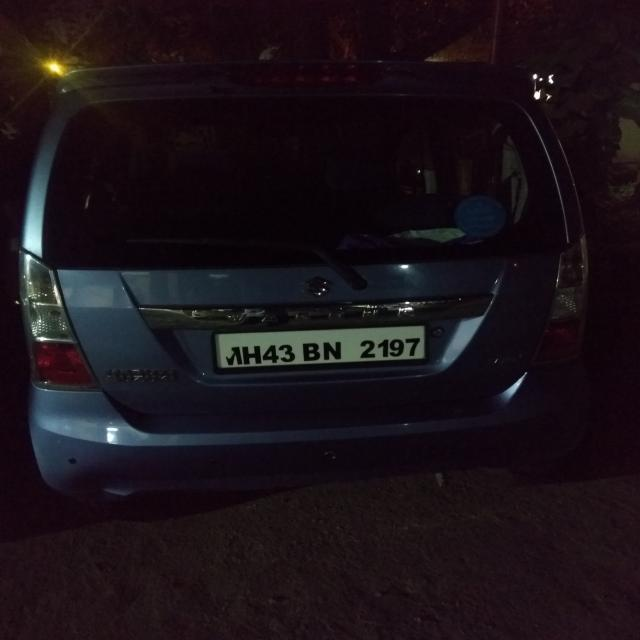Number-Plate: (221, 326, 425, 367)
